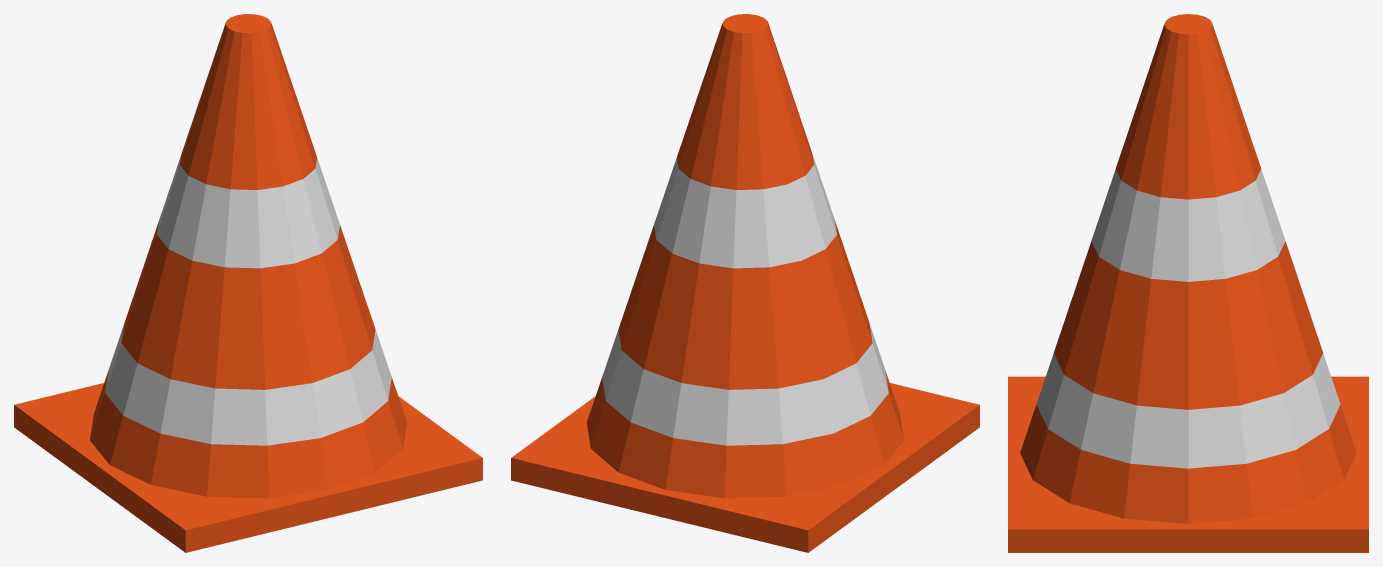
3 renders of one model, left to right at view 1: azimuth 30°, elevation 25°; view 2: azimuth 150°, elevation 25°; view 3: azimuth 270°, elevation 25°, orthographic. The views are drawn at different scales.
Parts seen in each view (by area): view 1: Cubo; view 2: Cubo; view 3: Cubo.
Boxes of the visible parts, x1=… form: Cubo: x1=14, y1=14, x2=482, y2=552; Cubo: x1=511, y1=14, x2=979, y2=552; Cubo: x1=1008, y1=14, x2=1368, y2=552.
Bounding box in the file's own units: 212 × 294 × 212.
